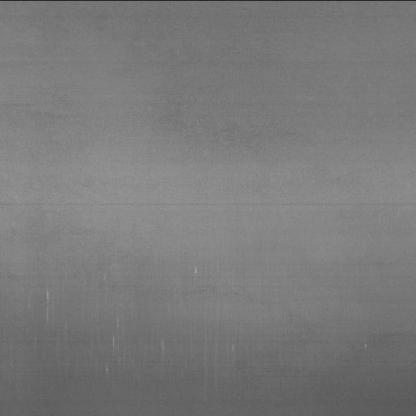waist_folding: (39, 206, 302, 389)
